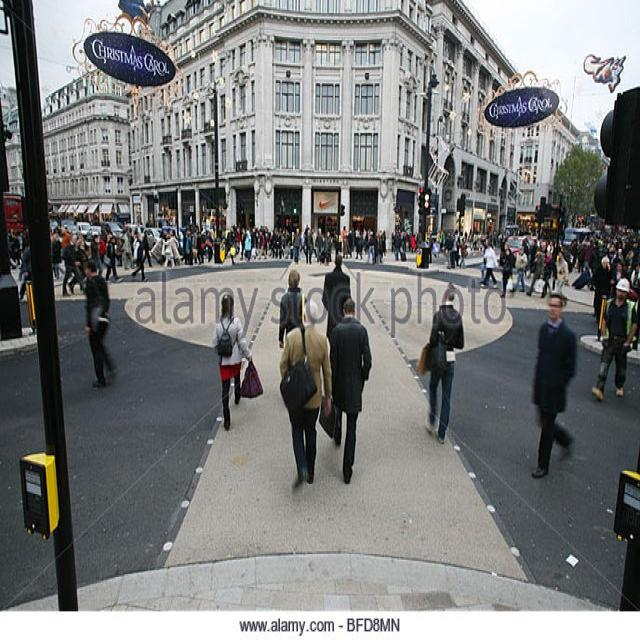body: (277, 295, 333, 491), (528, 289, 580, 481), (415, 279, 467, 447), (329, 296, 373, 487), (209, 292, 265, 432), (587, 274, 639, 405), (83, 258, 119, 391), (322, 252, 351, 344), (277, 271, 308, 352), (60, 232, 87, 298), (590, 255, 612, 332), (46, 212, 142, 228), (590, 222, 639, 253), (18, 238, 38, 302), (526, 249, 552, 298), (66, 236, 87, 295), (479, 239, 500, 289), (508, 244, 528, 294), (104, 235, 121, 283), (130, 239, 148, 284), (538, 248, 554, 298), (51, 232, 67, 281), (76, 236, 89, 292), (4, 225, 19, 269), (482, 236, 495, 286), (542, 234, 570, 256), (609, 261, 625, 299), (59, 228, 71, 278), (162, 226, 176, 268), (120, 228, 134, 270), (90, 233, 104, 275), (156, 226, 169, 268), (50, 225, 63, 266), (568, 208, 593, 229), (140, 229, 153, 269), (225, 224, 237, 266), (527, 236, 540, 274), (501, 242, 518, 271), (498, 232, 511, 269), (442, 228, 453, 269), (555, 252, 570, 282), (510, 223, 540, 238), (168, 228, 179, 268), (314, 226, 325, 265), (303, 228, 314, 266), (292, 226, 303, 264), (125, 225, 135, 265), (576, 236, 586, 275), (630, 262, 639, 305), (251, 226, 262, 261), (196, 230, 207, 265), (623, 249, 635, 281), (190, 225, 200, 263), (448, 232, 459, 266), (323, 230, 333, 266), (308, 226, 318, 262), (243, 228, 253, 264), (182, 226, 191, 266), (582, 236, 591, 275), (392, 231, 403, 262), (96, 235, 107, 266), (366, 228, 376, 262), (521, 236, 530, 272), (268, 228, 278, 260), (257, 228, 267, 260), (459, 236, 468, 271), (451, 226, 460, 261), (425, 232, 435, 263), (488, 228, 510, 242), (143, 218, 171, 229), (206, 228, 215, 262), (434, 226, 444, 256), (569, 238, 577, 274), (284, 228, 293, 260), (239, 226, 247, 262), (184, 230, 192, 266), (361, 228, 371, 256), (376, 228, 385, 259), (354, 231, 363, 262), (345, 228, 354, 259), (324, 230, 332, 264), (341, 225, 349, 258), (470, 223, 479, 252), (249, 228, 257, 260), (131, 223, 144, 242), (380, 229, 388, 259), (262, 225, 269, 256), (21, 225, 30, 249), (275, 229, 282, 259), (234, 225, 241, 255), (299, 230, 307, 256), (103, 223, 113, 242), (333, 233, 340, 260), (361, 226, 368, 252), (416, 230, 425, 250), (458, 228, 464, 255), (280, 229, 286, 256), (409, 230, 416, 253), (354, 225, 361, 248), (403, 229, 409, 254), (188, 231, 197, 246), (468, 228, 474, 250), (337, 229, 342, 254), (617, 246, 624, 261), (210, 223, 216, 240), (373, 229, 377, 252), (463, 230, 468, 243), (303, 224, 308, 236)
